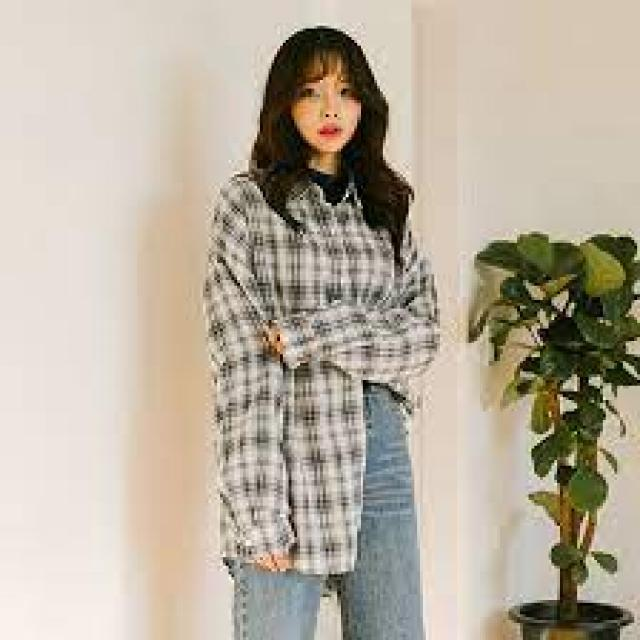plaid: (195, 170, 445, 586)
